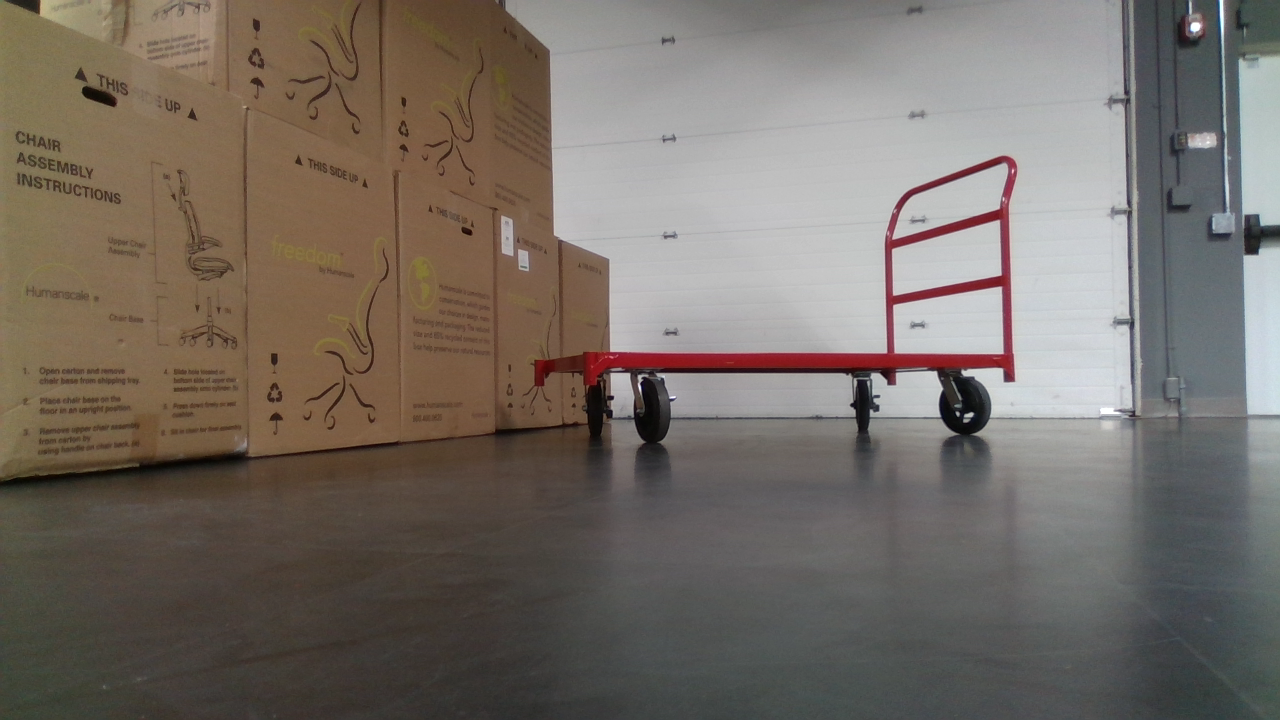Dolly: (533, 154, 1021, 444)
Wheel: (937, 375, 993, 435), (632, 375, 672, 443), (847, 376, 881, 435), (584, 376, 613, 438)
